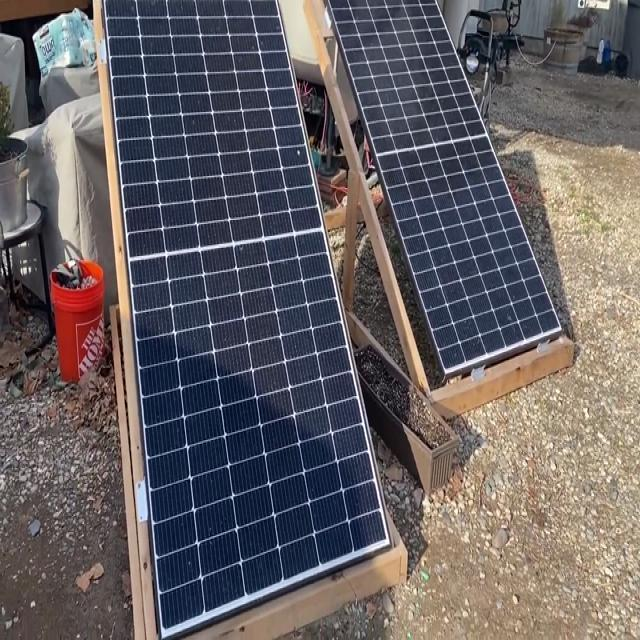Normal Solar Panel: (105, 3, 390, 639), (331, 0, 561, 373)
